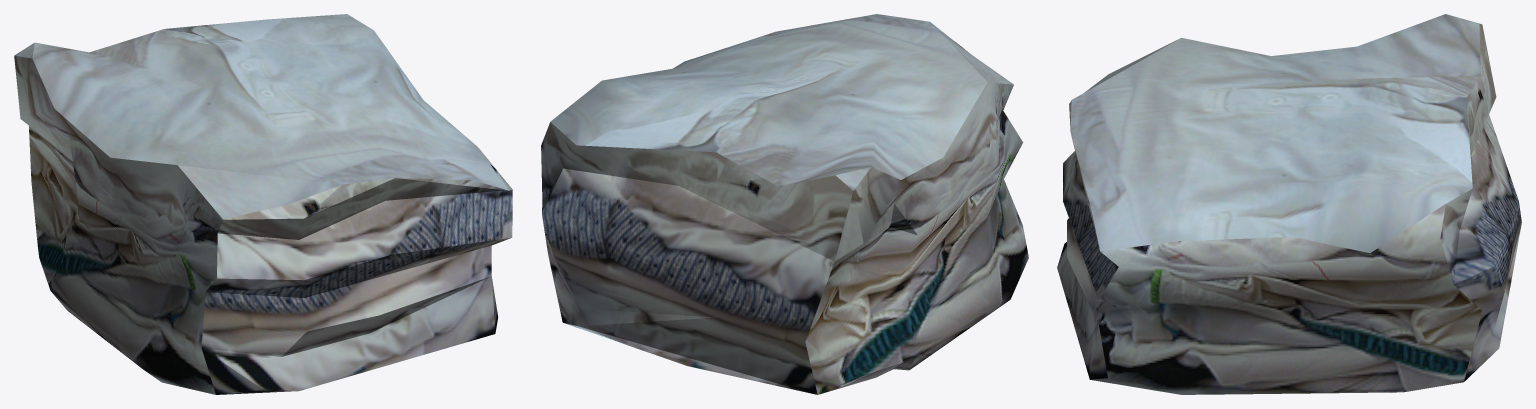
The model's file is shirt_pile-11.FBX.
The picture shows the model from 3 angles, left to right: view 1: azimuth 30°, elevation 25°; view 2: azimuth 150°, elevation 25°; view 3: azimuth 270°, elevation 25°; orthographic projection.
Parts seen in each view (by area): view 1: Object06; view 2: Object06; view 3: Object06.
Part boxes in pixels (x1,y1,x2,y2): Object06: (14, 14, 512, 394); Object06: (541, 14, 1028, 394); Object06: (1057, 14, 1521, 394).
Size of the model in its own units: 18.94 by 12.49 by 21.71.
